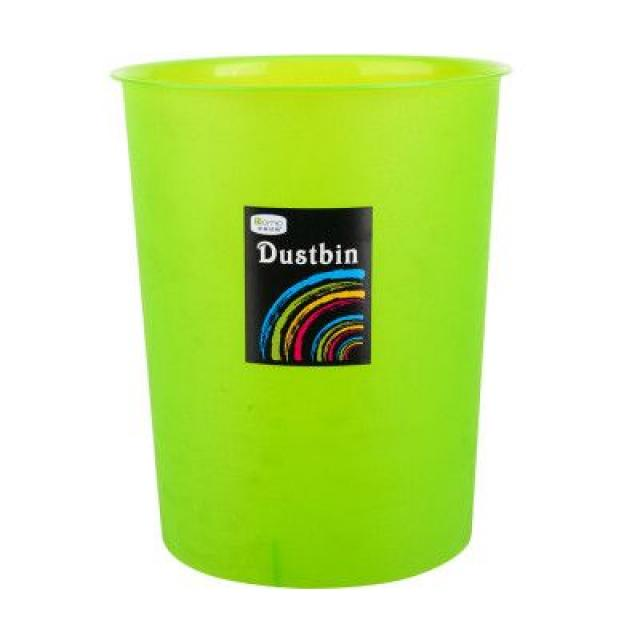Dustbin: (104, 48, 518, 594)
